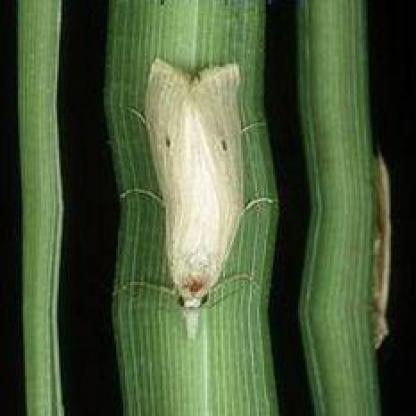stem-borer: (122, 54, 260, 345)
